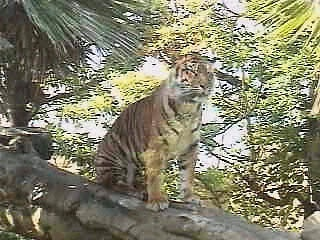tigre: (82, 50, 217, 212)
